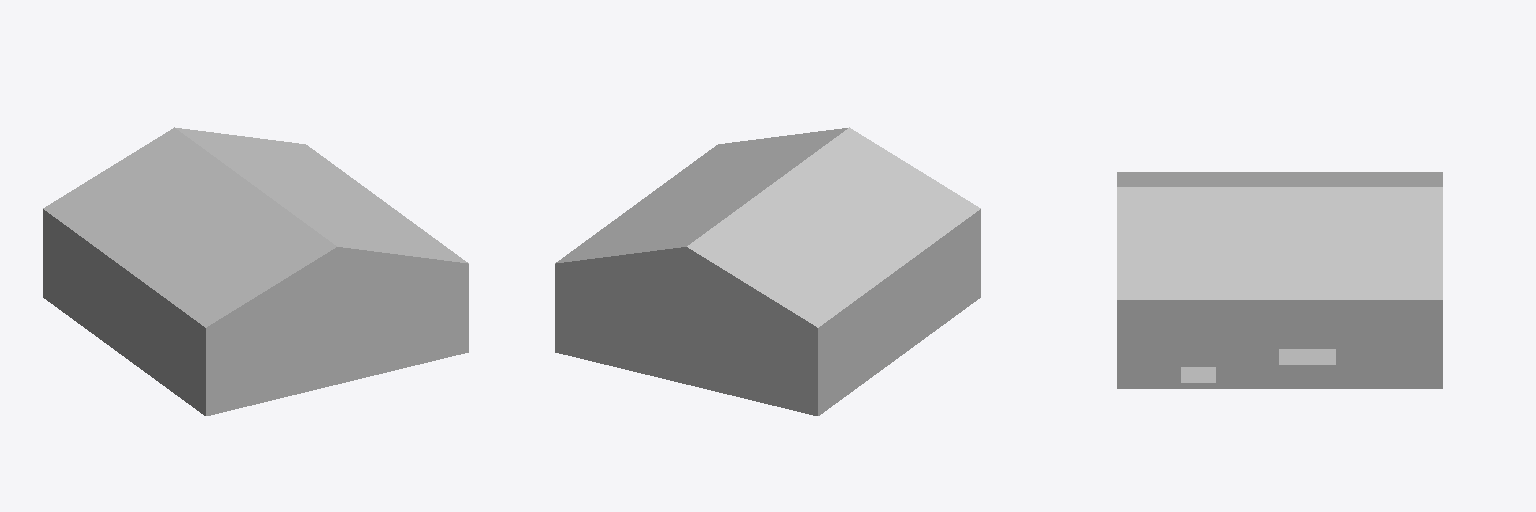
The model's file is house40.obj.
The picture shows the model from 3 angles: view 1: azimuth 30°, elevation 25°; view 2: azimuth 150°, elevation 25°; view 3: azimuth 270°, elevation 25°; orthographic projection.
Parts seen in each view (by area): view 1: 立方体.058; view 2: 立方体.058; view 3: 立方体.058.
Part boxes in pixels (x1,y1,x2,y2): 立方体.058: (43,127,468,415); 立方体.058: (555,127,980,415); 立方体.058: (1117,172,1442,388).
Bounding box in the file's own units: 56 × 27.98 × 60.